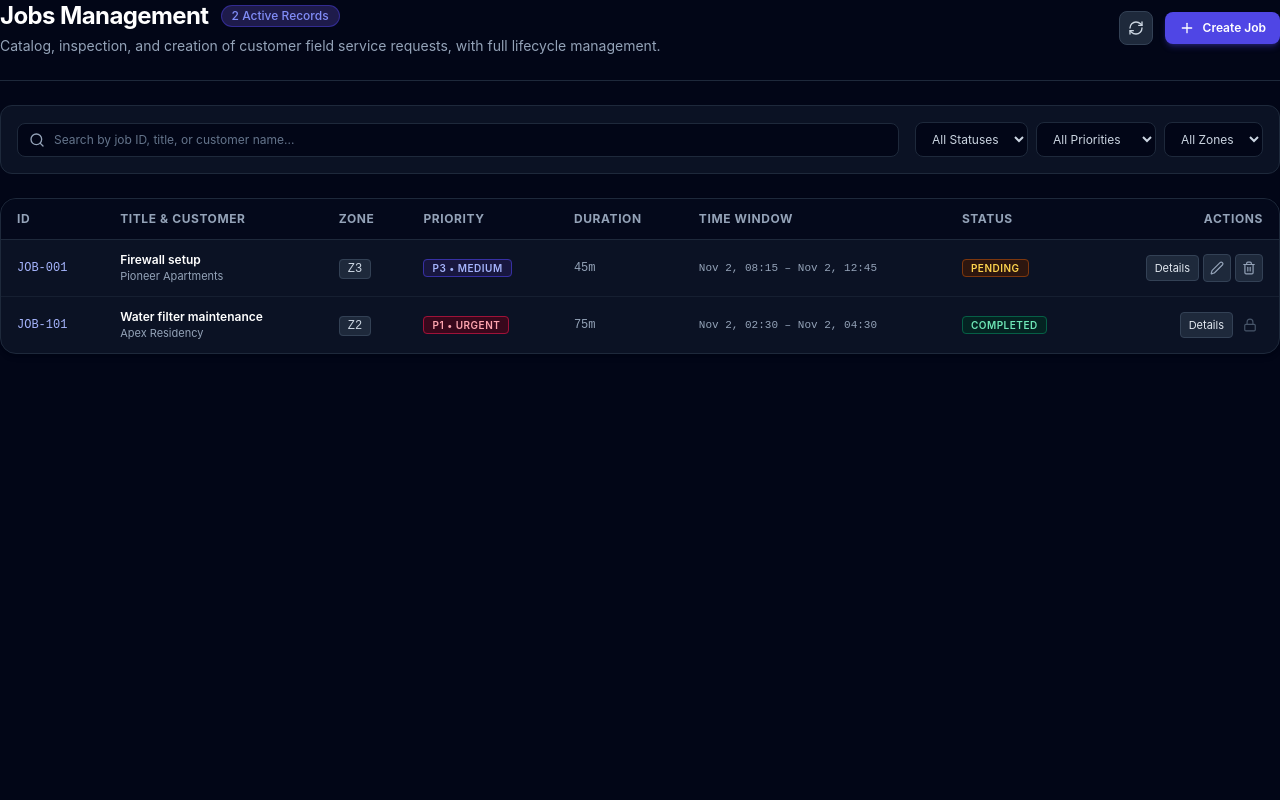
Test case: JobsPage Component › opens edit modal and updates job details
Expected: the text "Firewall setup" is shown, [120, 252, 201, 267]
Step 1. Click the button named "Edit JOB-001" → (1217, 268), box [1203, 254, 1231, 282]
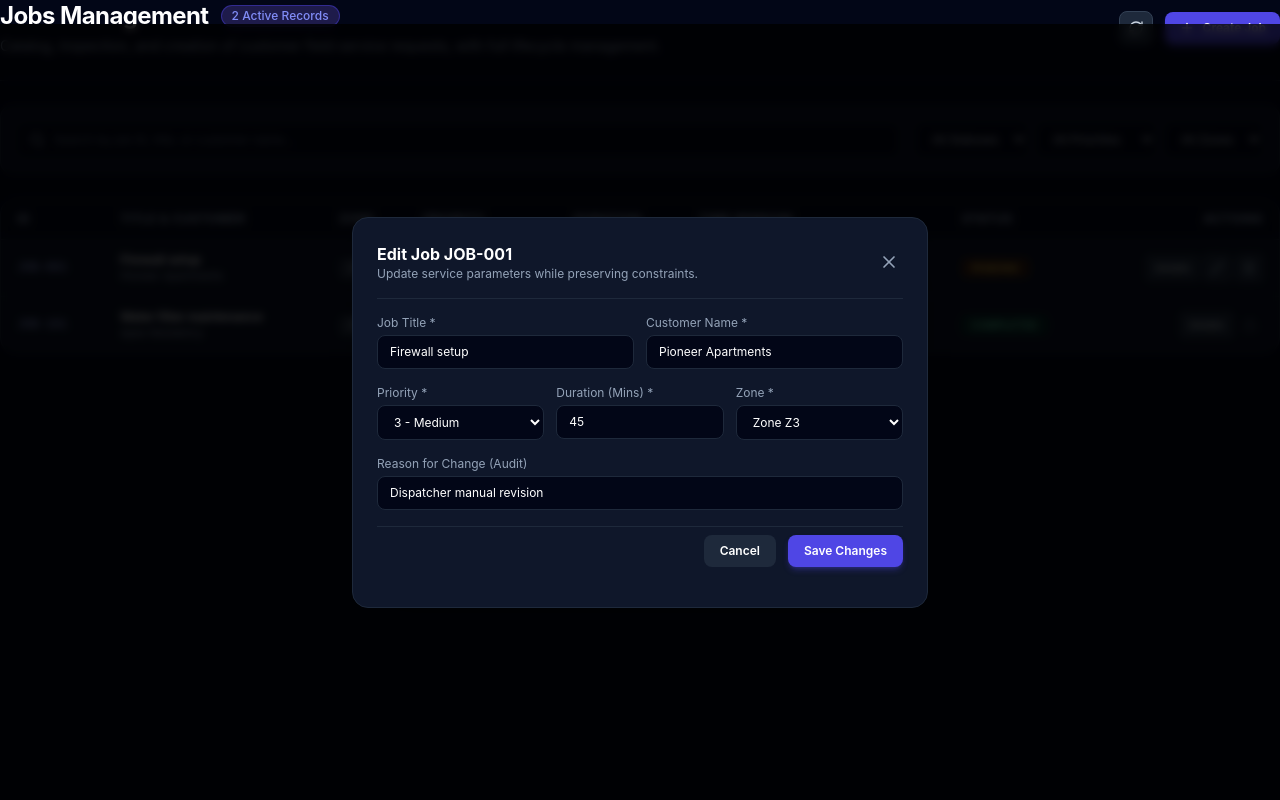
Expected: the element with test id "edit-job-modal" is shown
Expected: the heading "Edit Job JOB-001" is shown, [377, 244, 512, 264]
// Change title
Step 2. Replace the text in the field showing "Firewall setup" below "Job Title *" with "Firewall setup updated" → (506, 352), box [377, 334, 634, 368]
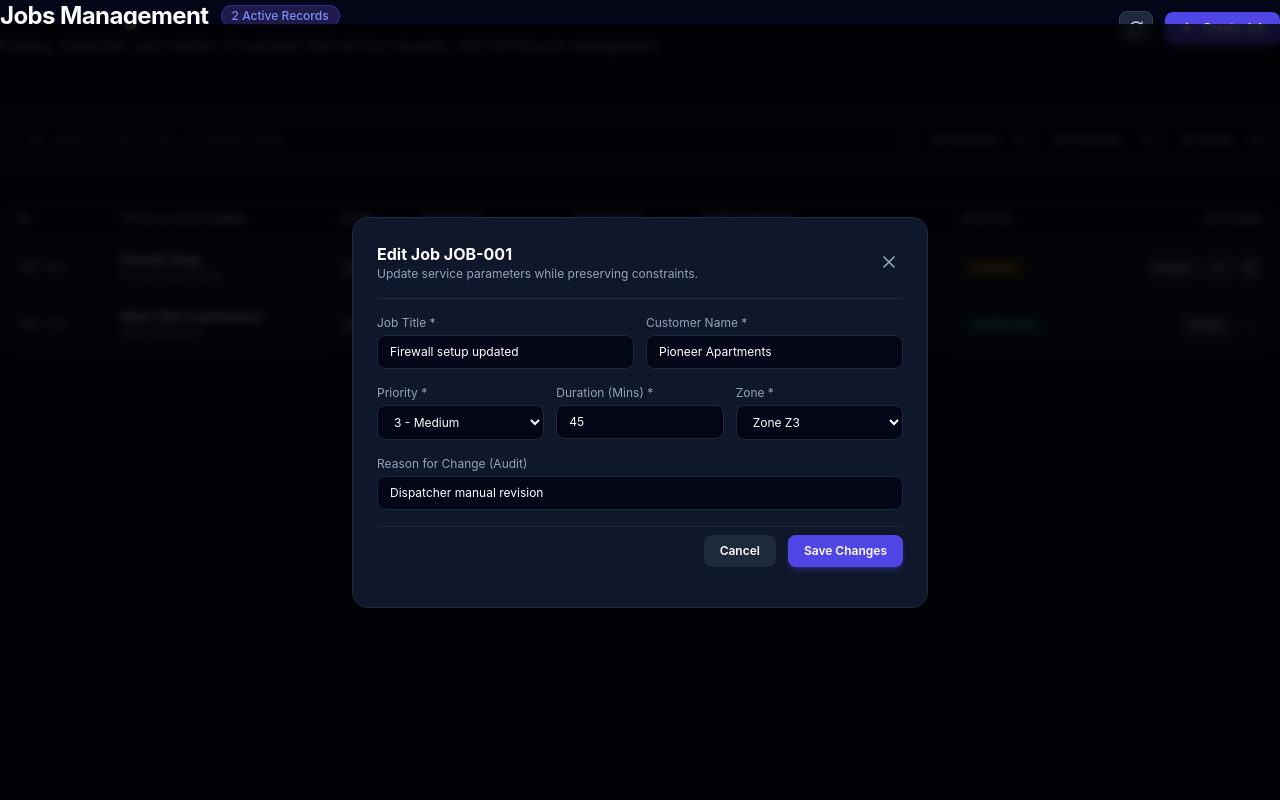
// Submit edit form
Step 3. Click the button "Save Changes" → (845, 550), box [788, 534, 903, 566]
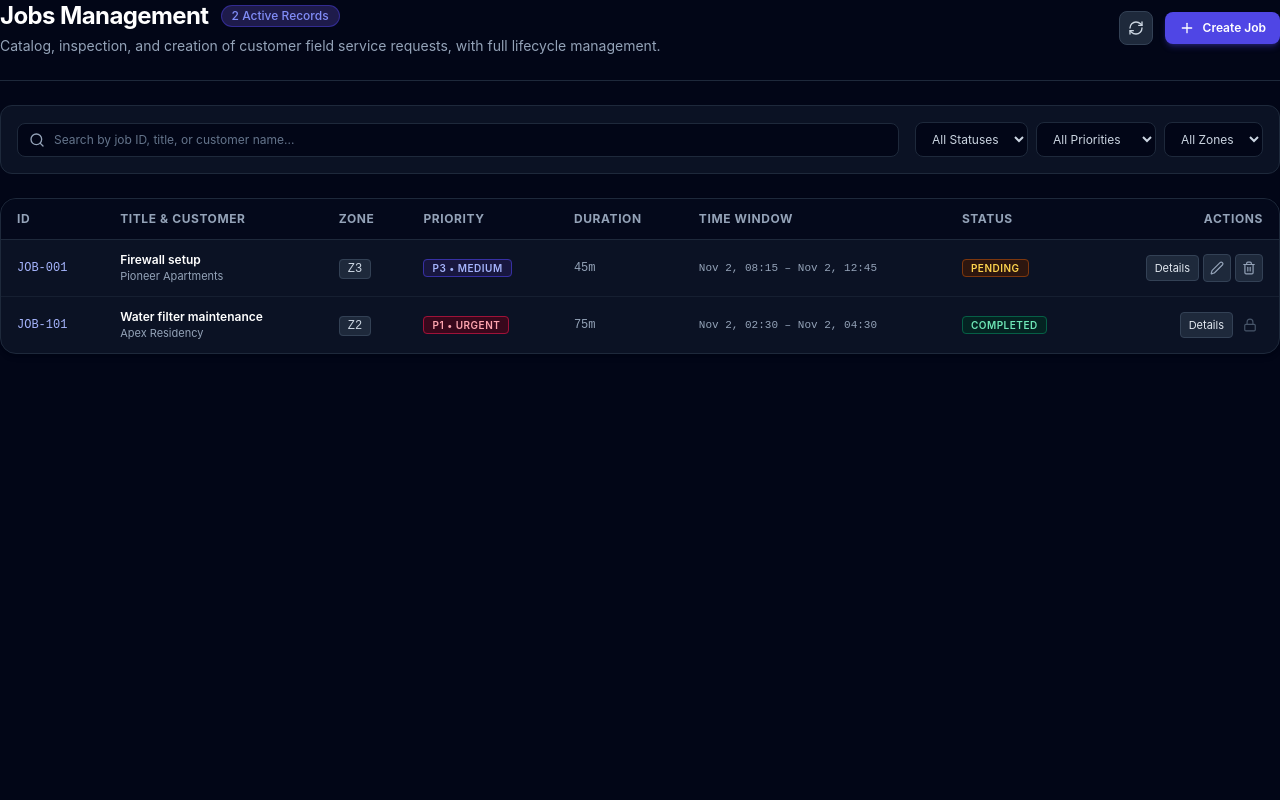
Expected: the element with test id "edit-job-modal" is gone
